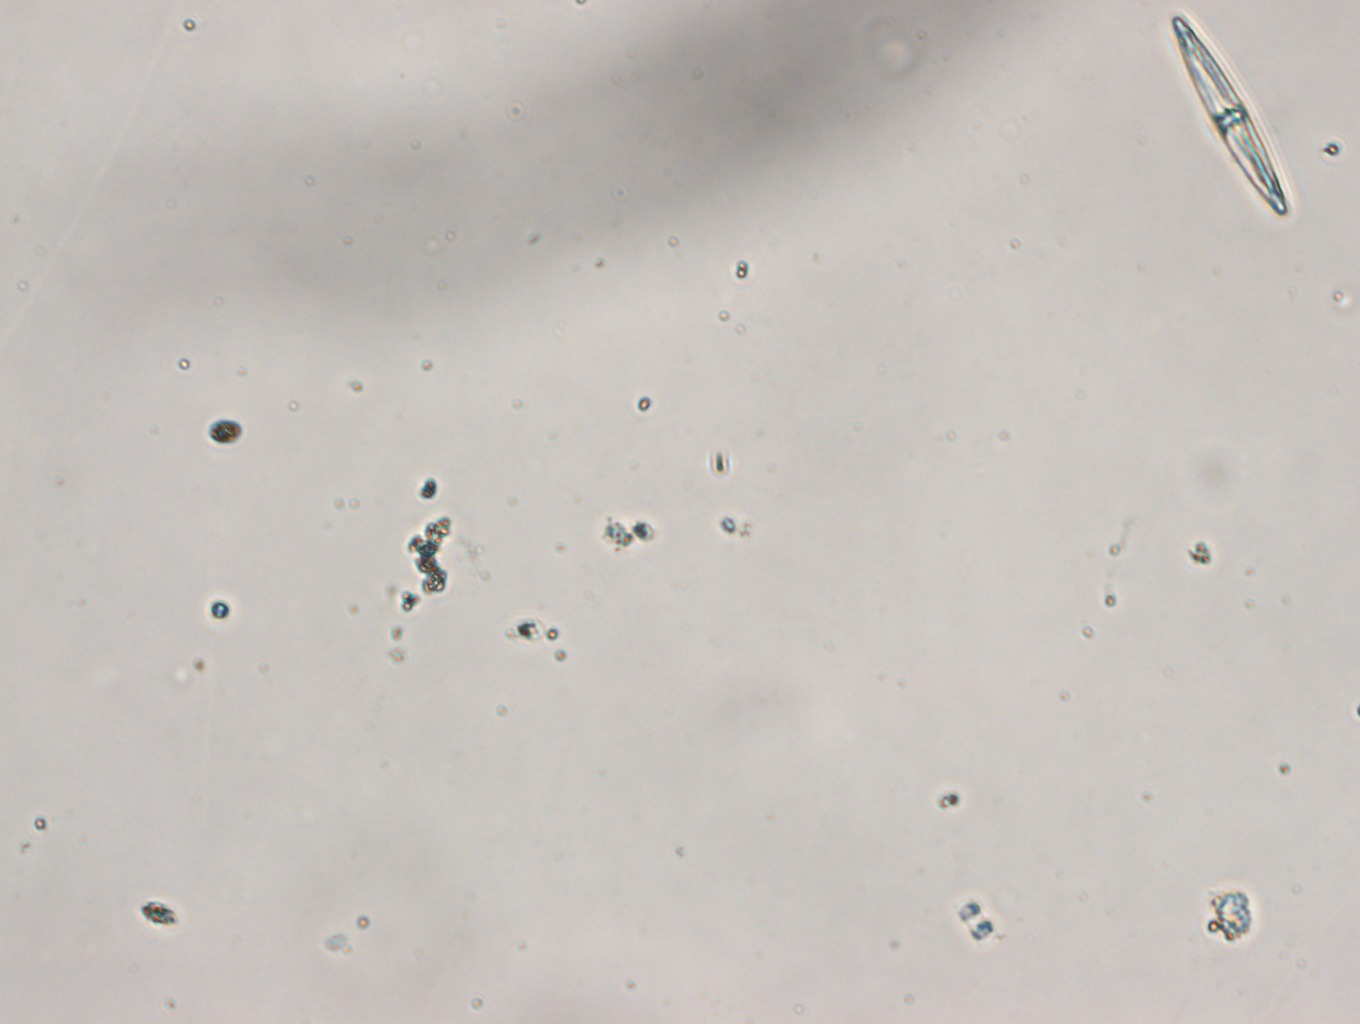navicula: (1168, 12, 1291, 217)
